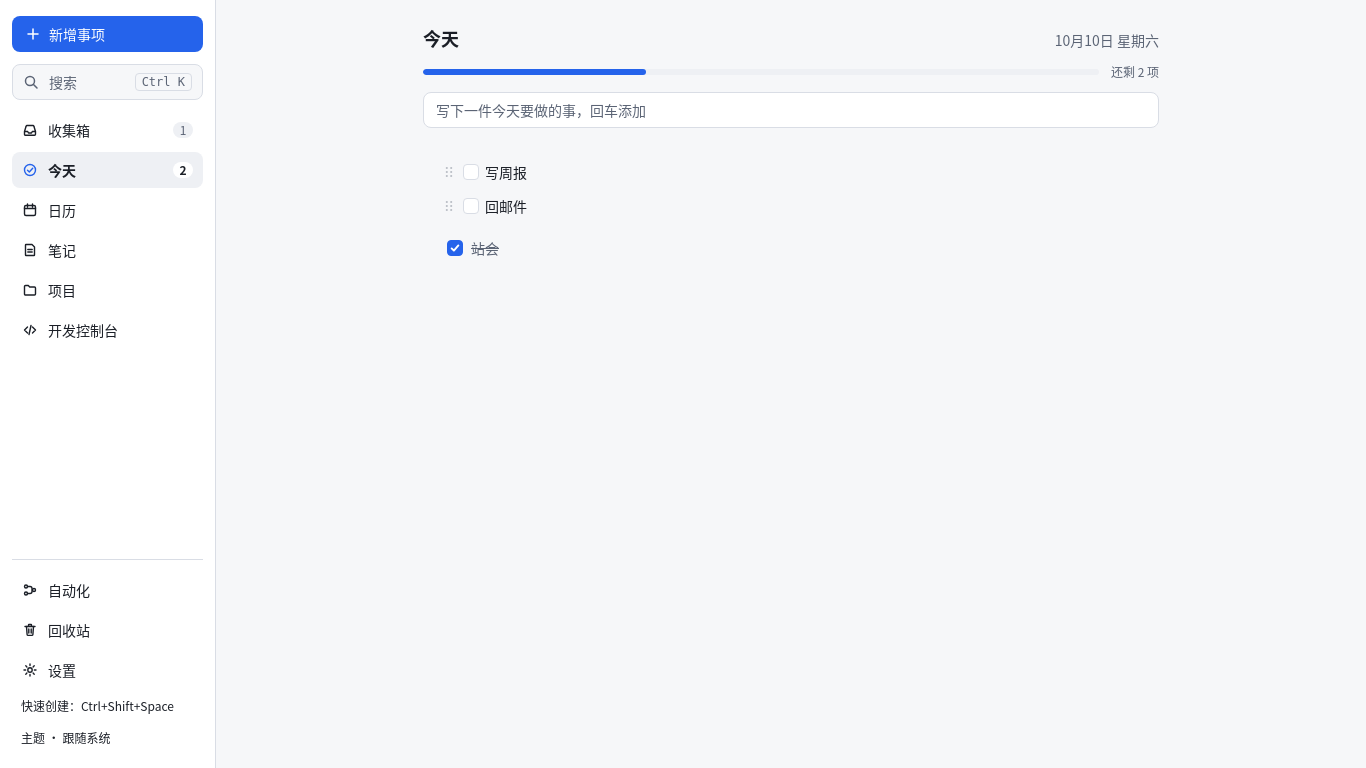
Test case: MainShell › Inbox 视图列出捕获的内容，侧栏角标显示待整理数量
The image size is (1366, 768).
Click the button "收集箱 1": (108, 130) [12,112,203,148]
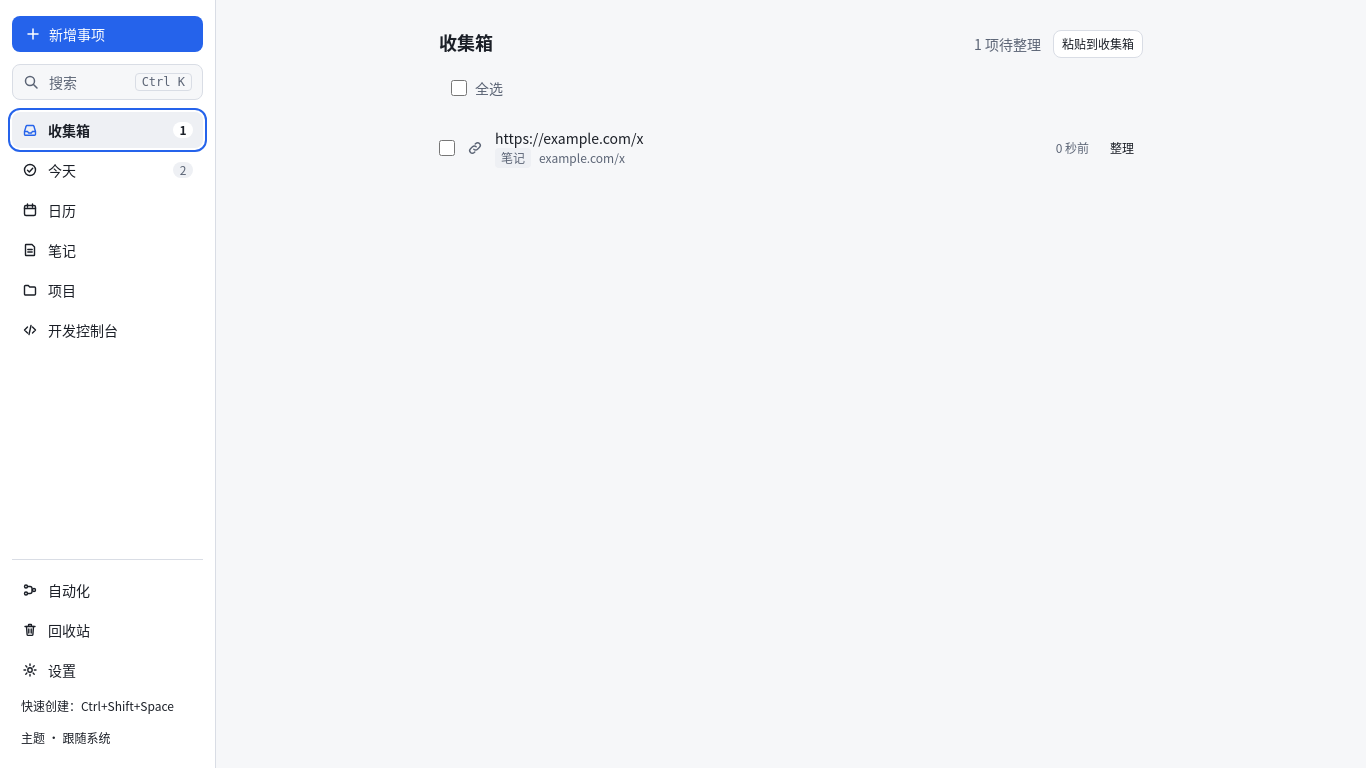
Expected: the text "example.com/x" is shown, [539,150,625,166]
